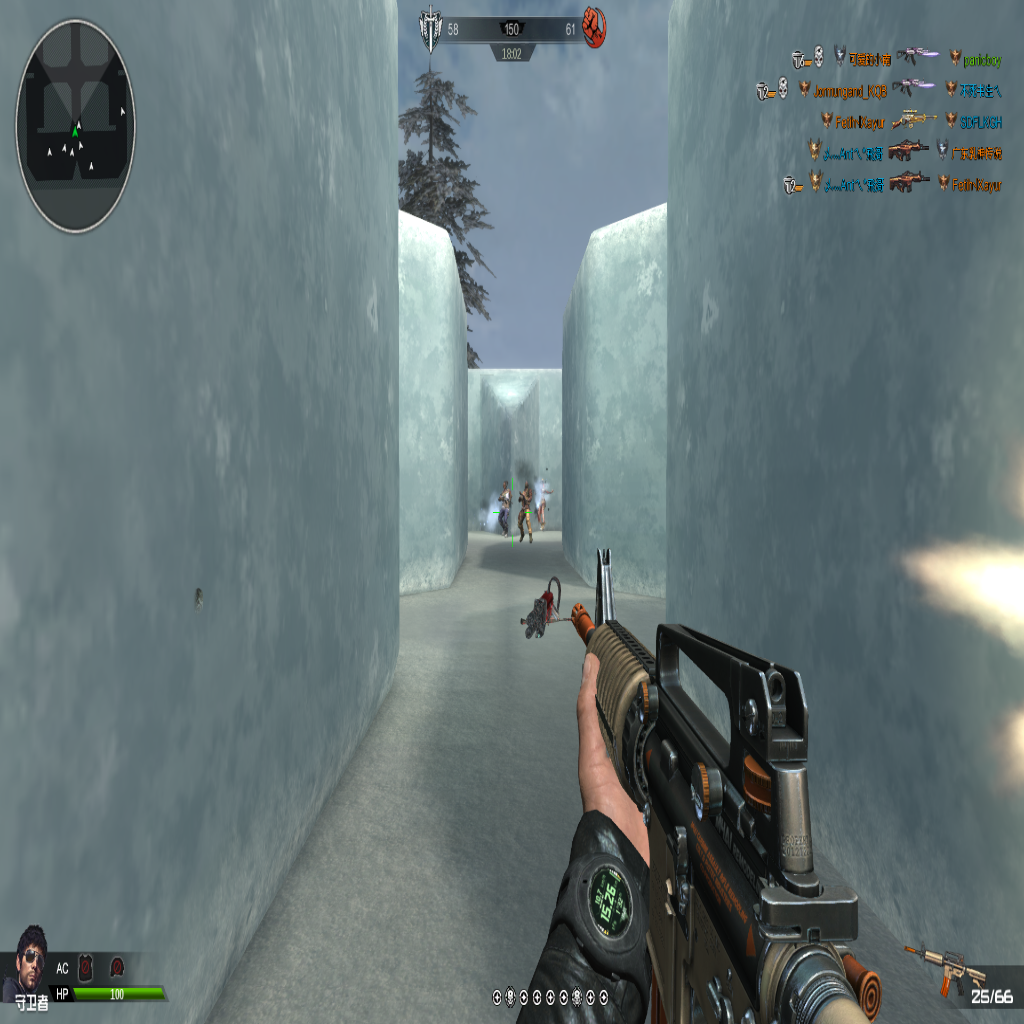tt: (517, 479, 533, 543), (498, 480, 512, 537)
